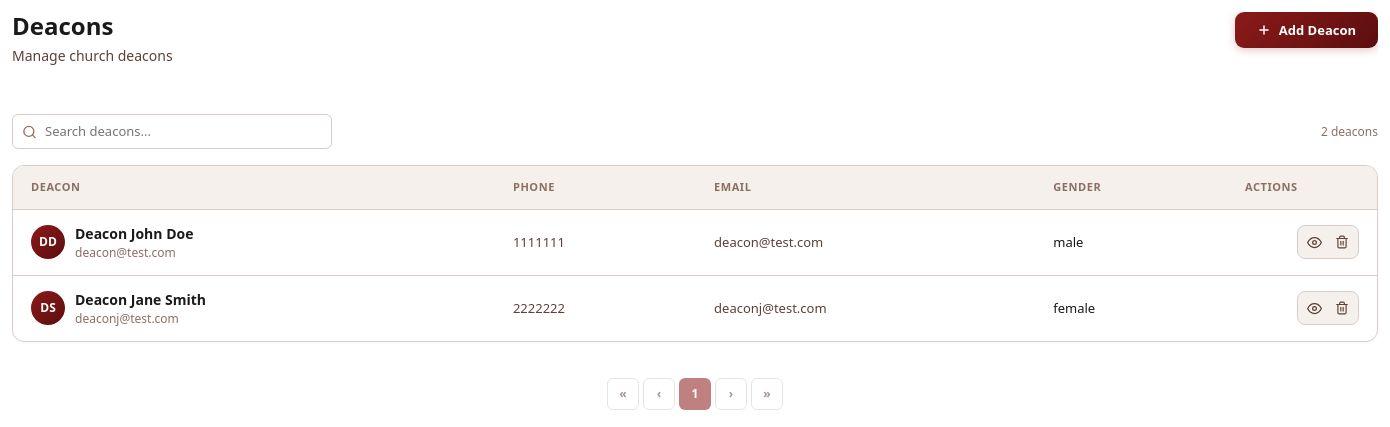
Test: Deacons › clears search with clear button
This screenshot has width=1390, height=427.
Type "John" into the field with placeholder "Search deacons...". click: (172, 132)
box: 12,114 -> 332,149
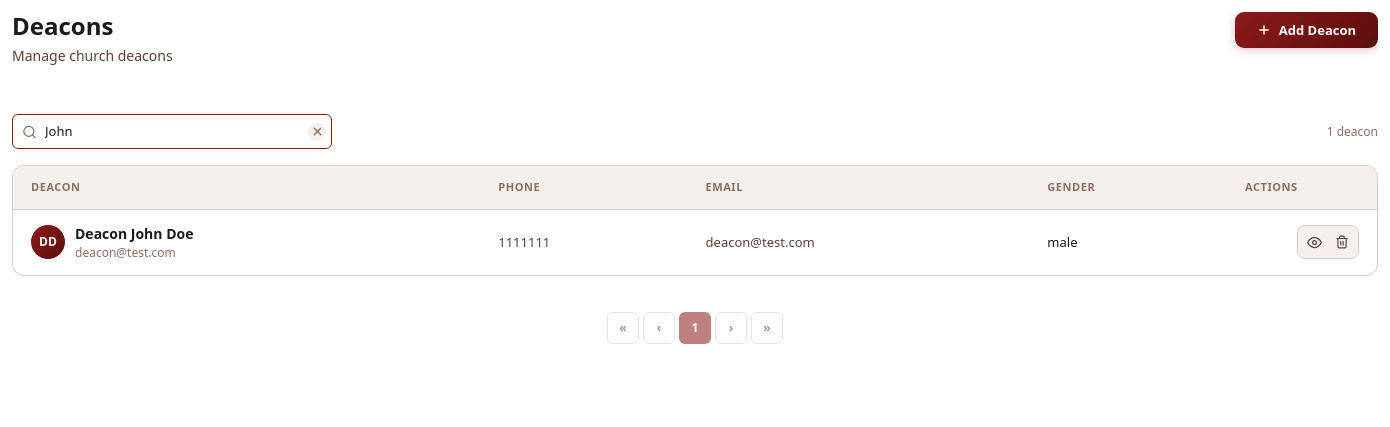
Check: the text "Deacon Jane Smith" is gone
Click the 2nd button. click: (317, 132)
box: 308,122 -> 326,140
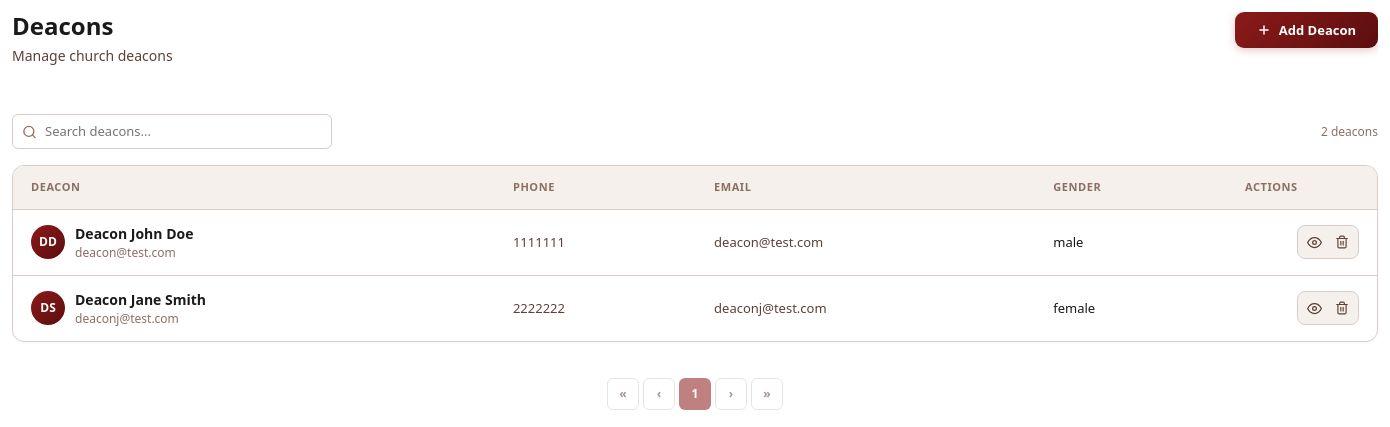
Check: the field with placeholder "Search deacons..." is empty, box 12,114 -> 332,149
Check: the text "Deacon Jane Smith" is shown, box 75,289 -> 206,310
